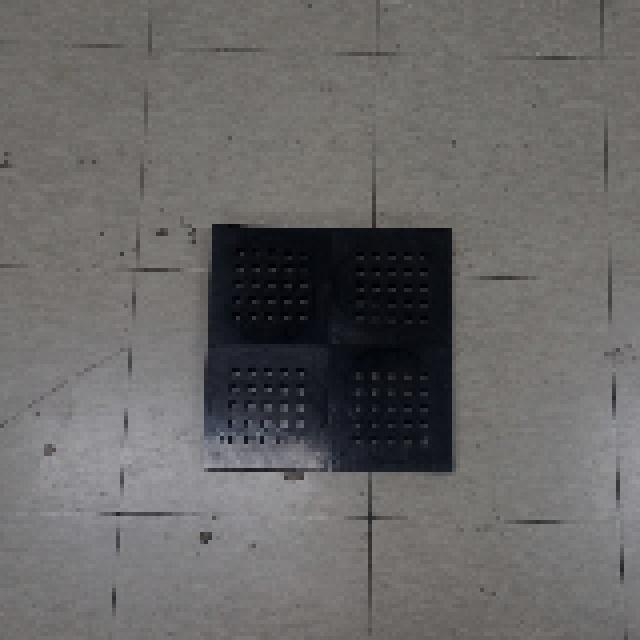pallet: (201, 219, 461, 482)
